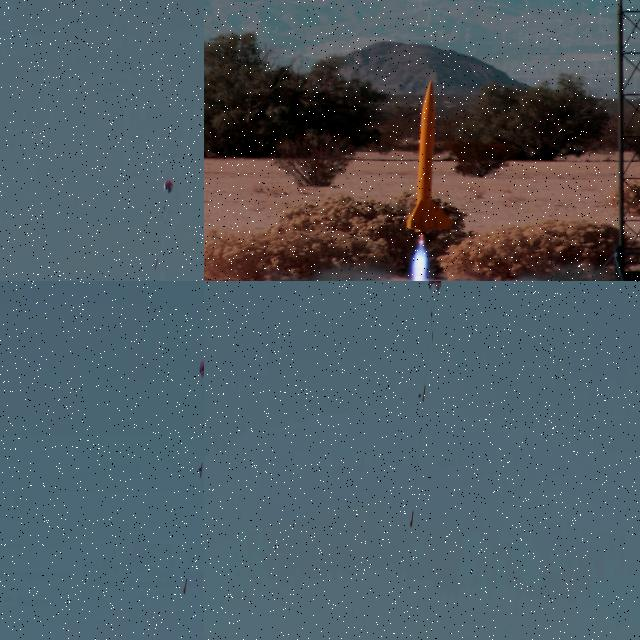Rocket: (402, 80, 453, 236), (183, 578, 187, 594), (410, 511, 414, 527)
